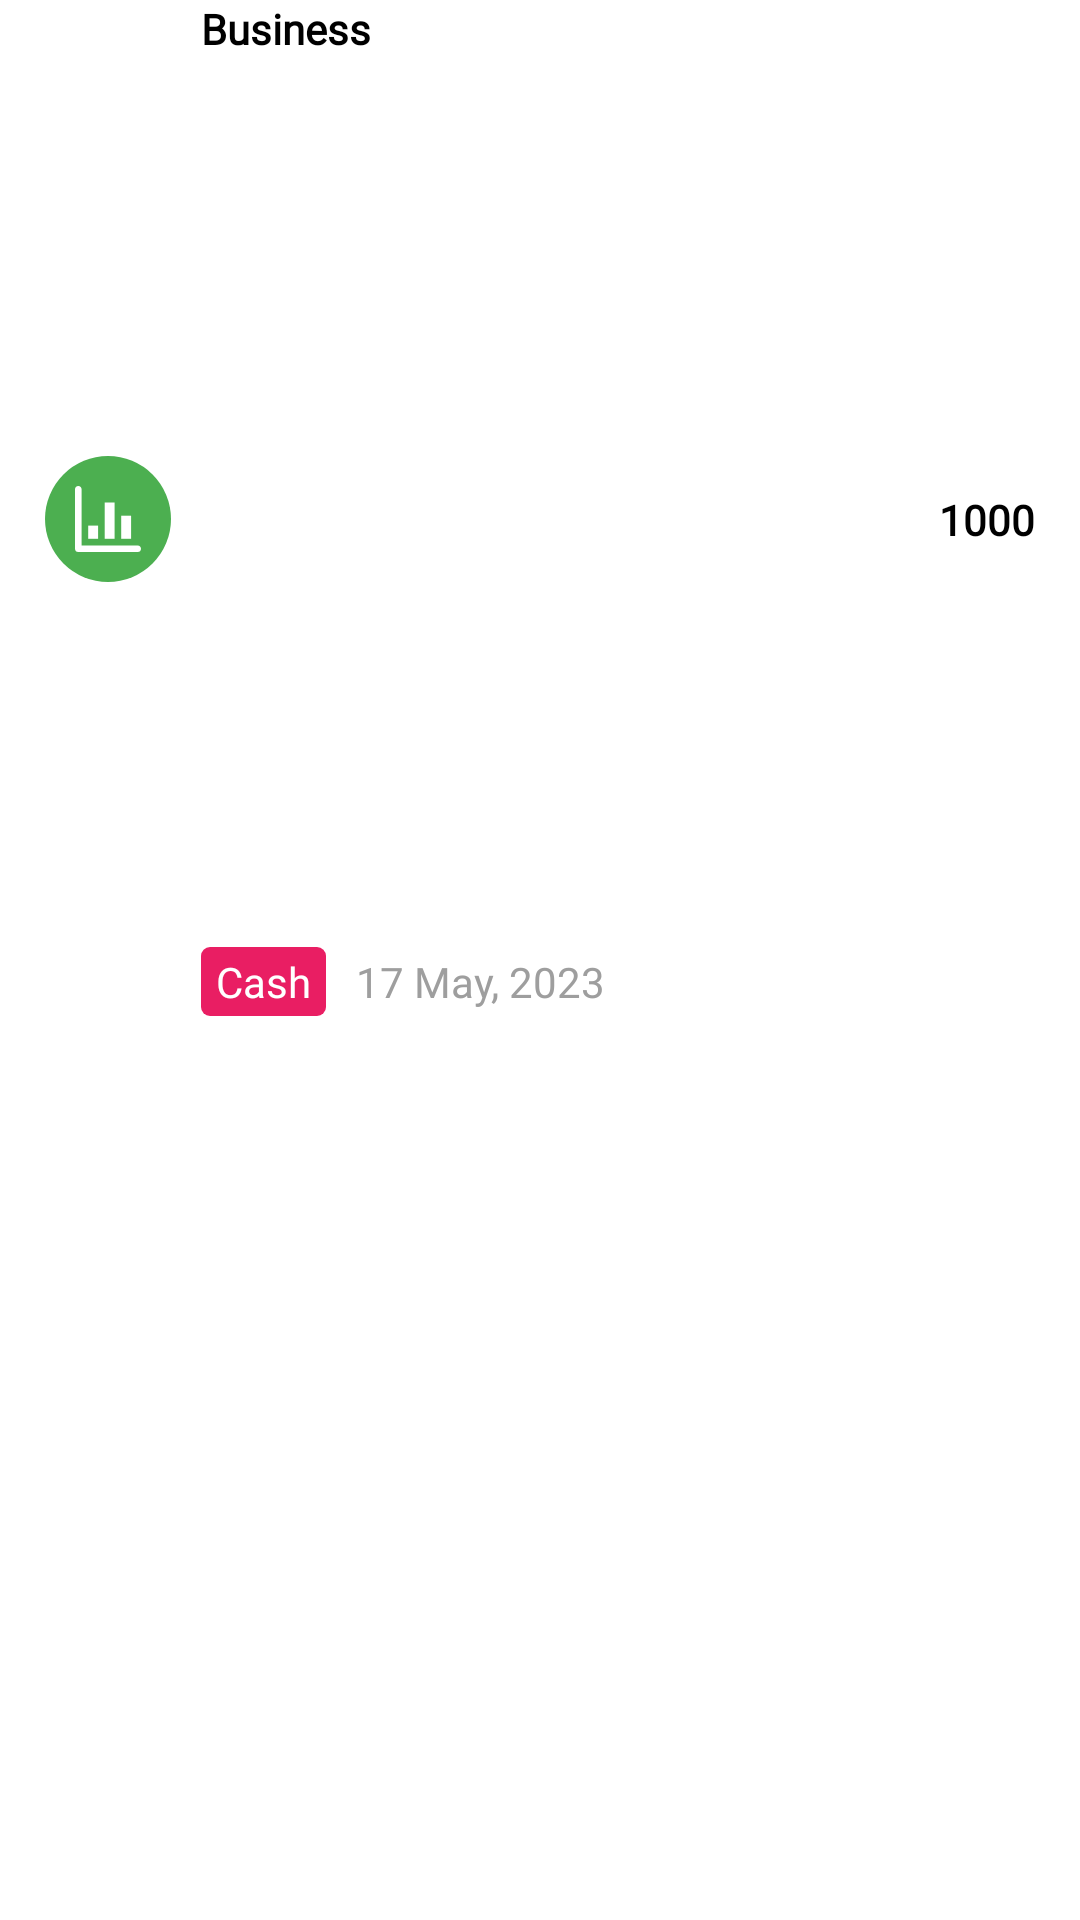

Locate icon controls on the screen. Image size 1080*1920, boxes as (x1, y1, x2, y2).
chart: (45, 456, 171, 582)
